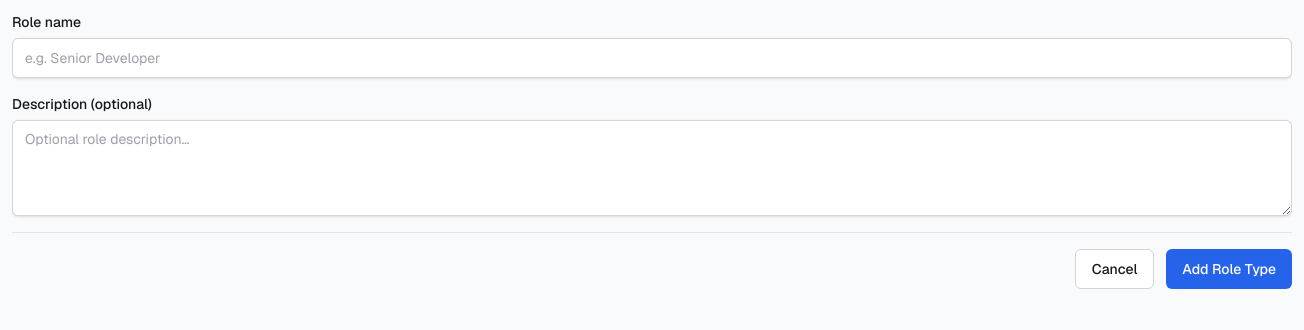
Test case: ResourceRoleTypeForm › shows a validation error and does not submit when the name is missing
The width and height of the screenshot is (1304, 330).
Click the button "Add Role Type" at {"x": 1229, "y": 269}, box left=1166, top=249, right=1292, bottom=289
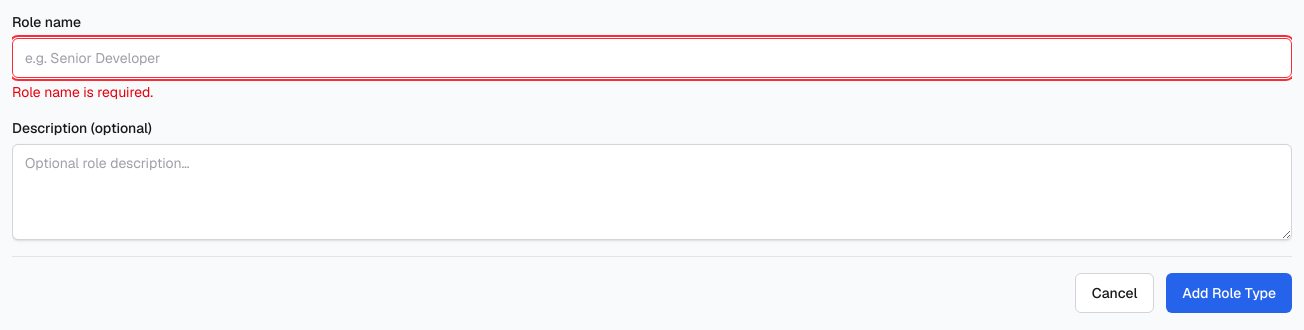
Expected: the text "Role name is required." is shown, left=12, top=83, right=153, bottom=101
